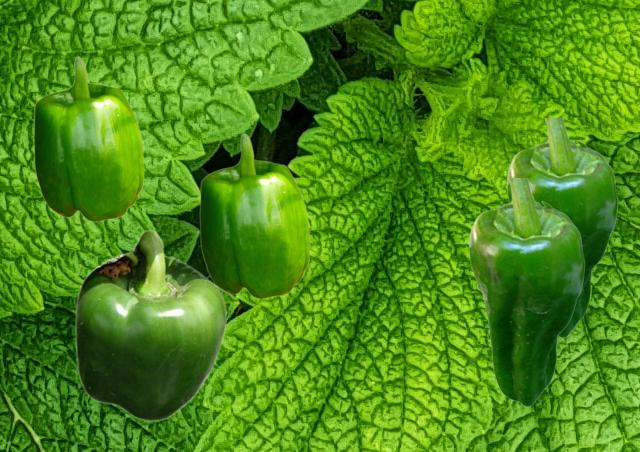bell_pepper: (74, 229, 226, 421), (468, 178, 584, 406), (506, 118, 617, 337), (199, 133, 309, 298), (33, 56, 143, 221)
